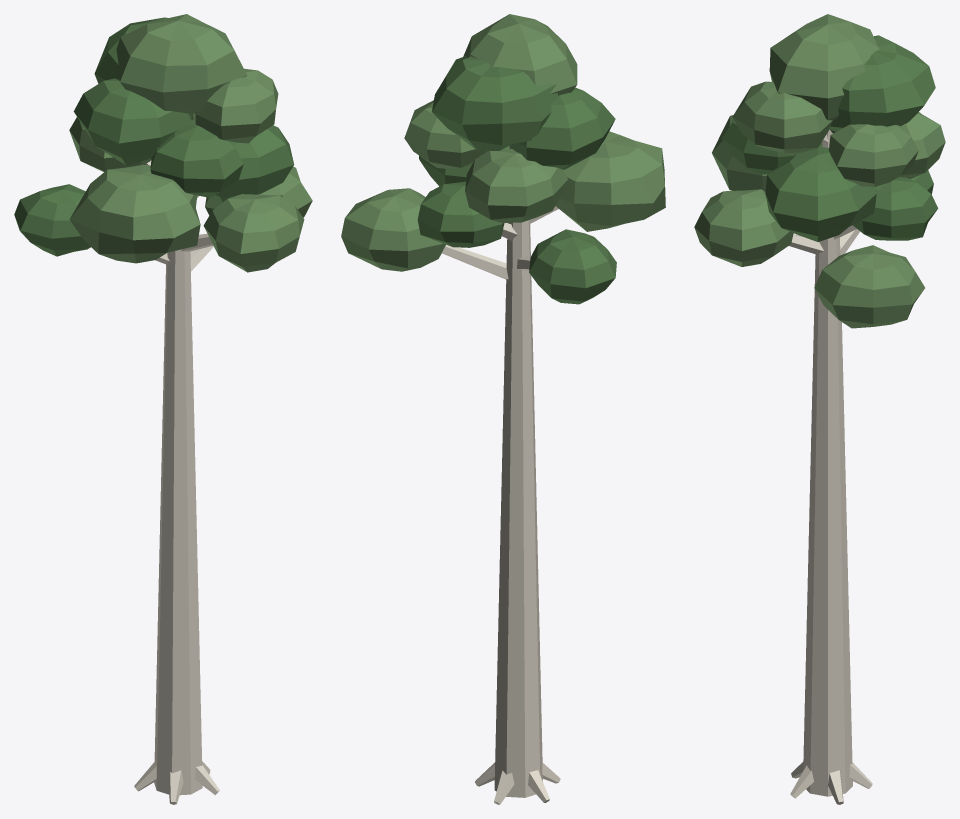
Rendered from tree_mountain_ash_huge.glb.
3 views of the same model, side by side, from view 1: azimuth 30°, elevation 25°; view 2: azimuth 150°, elevation 25°; view 3: azimuth 270°, elevation 25° (orthographic).
Parts seen in each view (by area): view 1: tree_mountain_ash_huge; view 2: tree_mountain_ash_huge; view 3: tree_mountain_ash_huge.
Boxes of the visible parts, x1,y1,x2,y2 form: tree_mountain_ash_huge: (14, 14, 312, 804); tree_mountain_ash_huge: (341, 14, 665, 804); tree_mountain_ash_huge: (694, 14, 945, 804).
Size of the model in its own units: 12.2 by 33.18 by 9.89.
